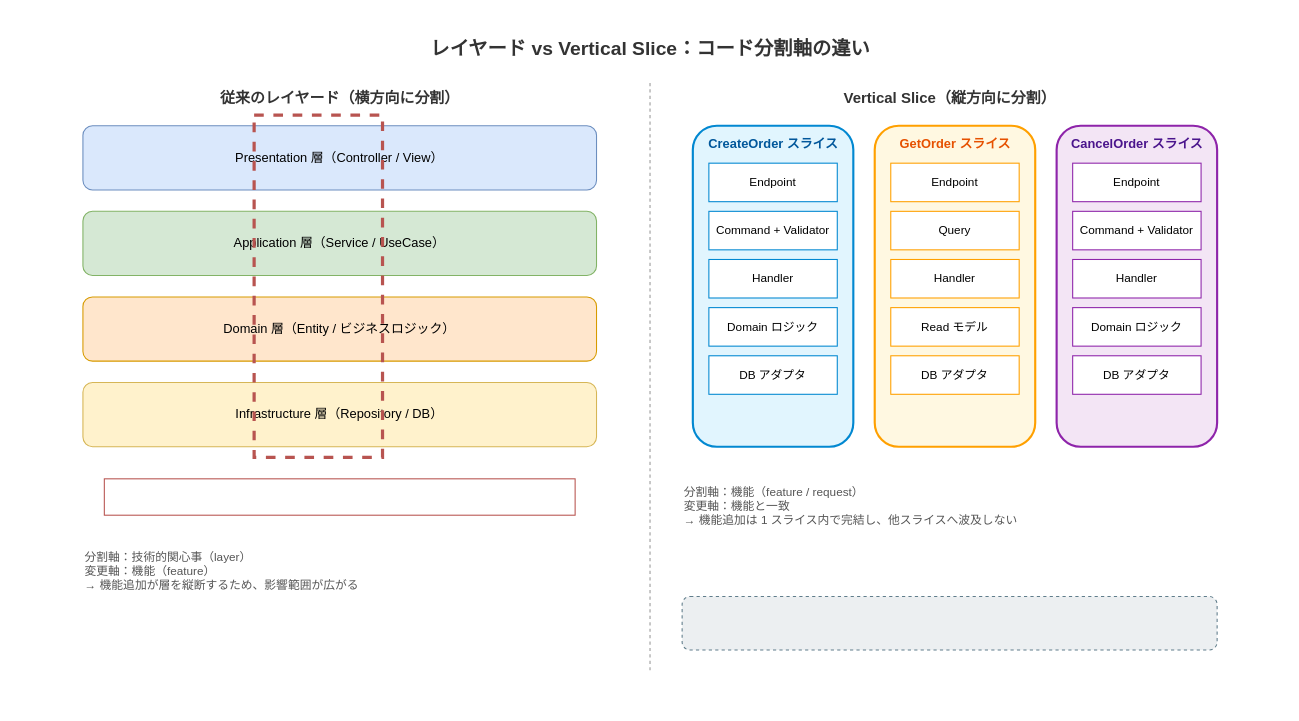
Some shapes in this 1299 by 721 pixel diagram are drawn without their labels. The centre of each missing label's shape, as x and y in pixels:
1 機能の追加で 4 層全てに変更が及ぶ: the point at 339,496
共有カーネル（最小限）：認証・ロギング・例外処理など、スライスを跨ぐ純粋に技術的な関心事のみ: the point at 949,622
